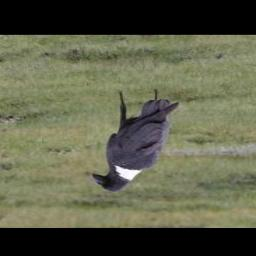Crow: (94, 91, 180, 193)
